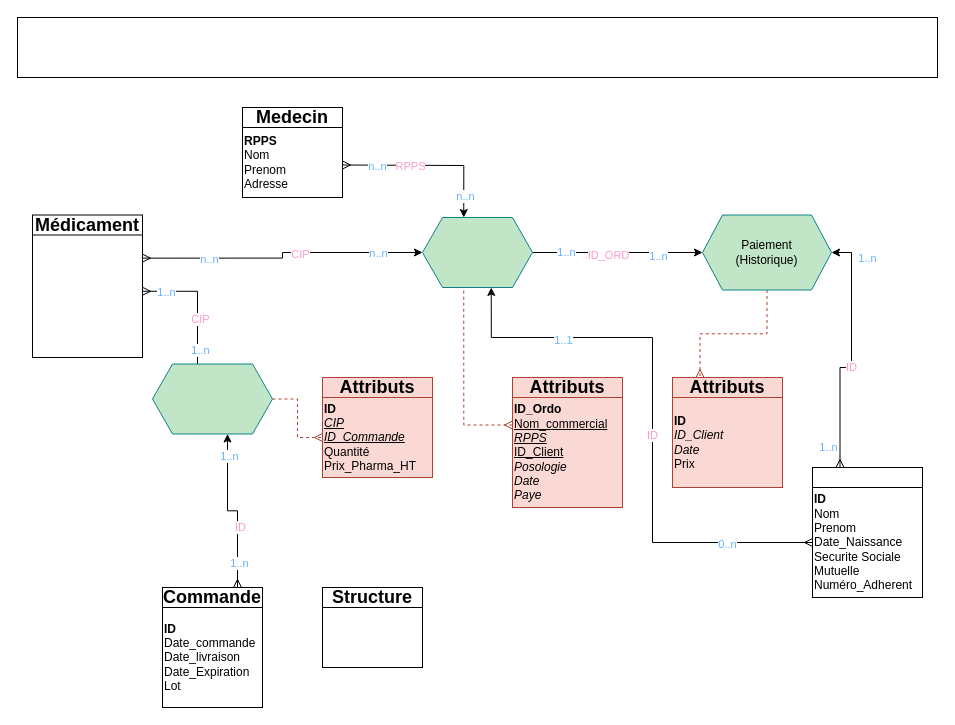
This 955x725 diagram has some shape labels left out. The box of each missing label's shape, as (x1, y1, x2, y2) in pixels:
Achats et Ordonnances: (422, 216, 532, 288)
CIP Nom_Commercial Taux_rembourse Prix Quantite Posologie Requiert_ordo: (32, 224, 142, 358)
Client: (812, 466, 922, 488)
Comm_Med (Gestion stocks): (152, 363, 272, 434)
ID Date Budget: (322, 606, 422, 668)
Schéma Entité/Association Pharmacie: (16, 16, 938, 78)
